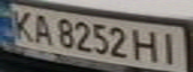2: (106, 24, 133, 61), (69, 18, 93, 54)
5: (90, 20, 112, 56)
8: (51, 16, 75, 51)
A: (27, 11, 57, 46)
H: (130, 26, 163, 63)
I: (154, 29, 184, 65)
K: (3, 7, 39, 43)
